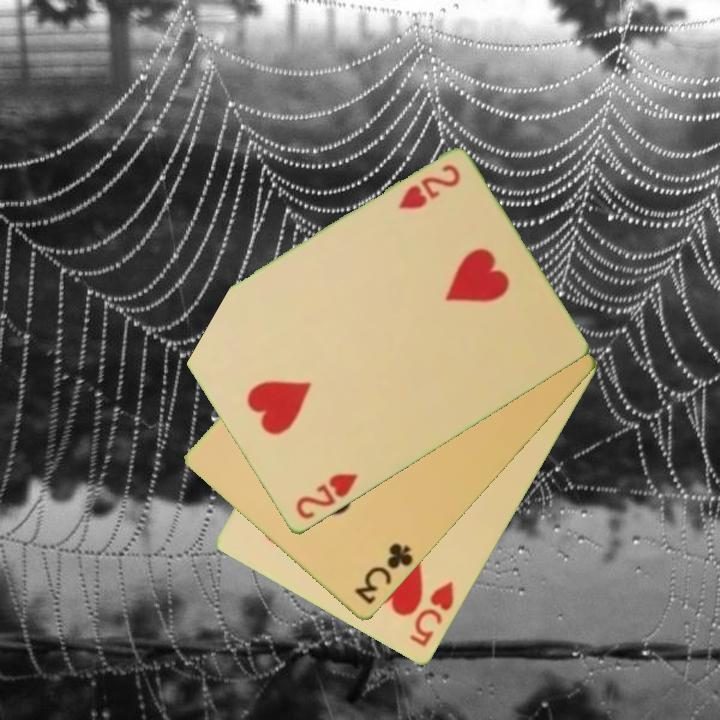2h: (292, 470, 361, 523), (394, 161, 464, 213)
3c: (351, 540, 416, 608)
5h: (406, 578, 458, 650)
